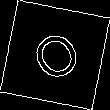O_SE: (23, 22, 87, 88)
